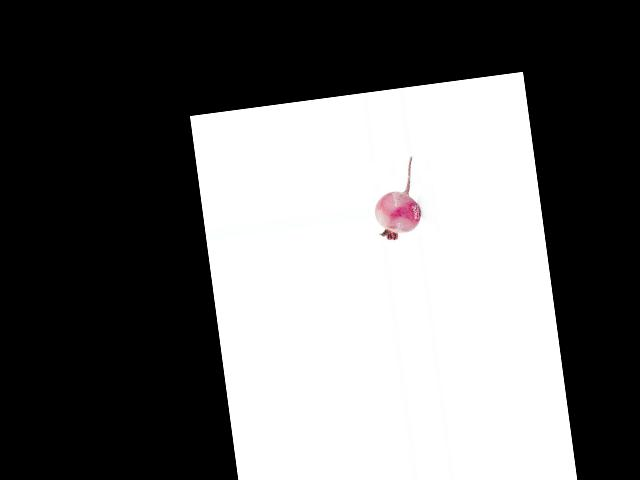beet: (368, 156, 424, 242)
